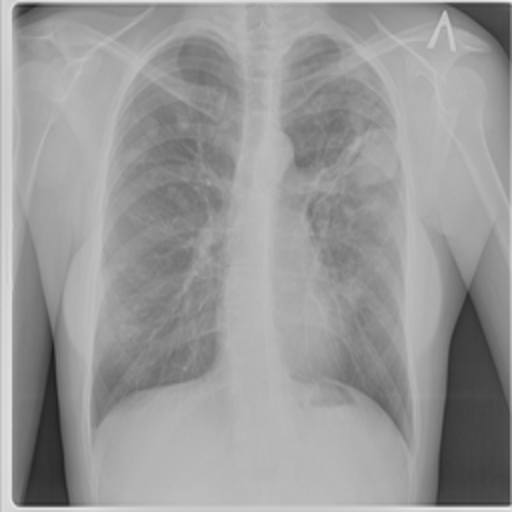TB: (316, 125, 401, 238)
